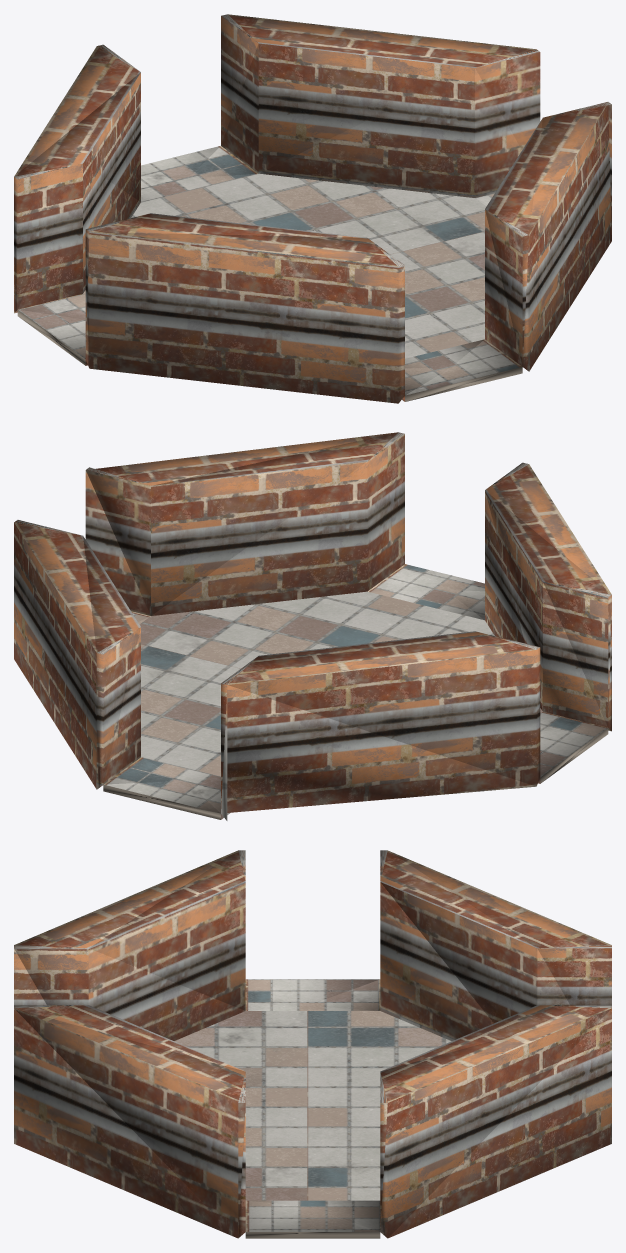
Rendered from tile9.dae.
The picture shows the model from 3 angles, top to bottom: view 1: azimuth 30°, elevation 25°; view 2: azimuth 150°, elevation 25°; view 3: azimuth 270°, elevation 25°; orthographic projection.
Visible parts, largest first — view 1: Cube.001; view 2: Cube.001; view 3: Cube.001.
Part boxes in pixels (<box>): Cube.001: <box>14,14,611,403</box>; Cube.001: <box>14,432,611,820</box>; Cube.001: <box>14,850,611,1238</box>.
Size of the model in its own units: 20 by 20 by 5.
1 material, 1 textured.
